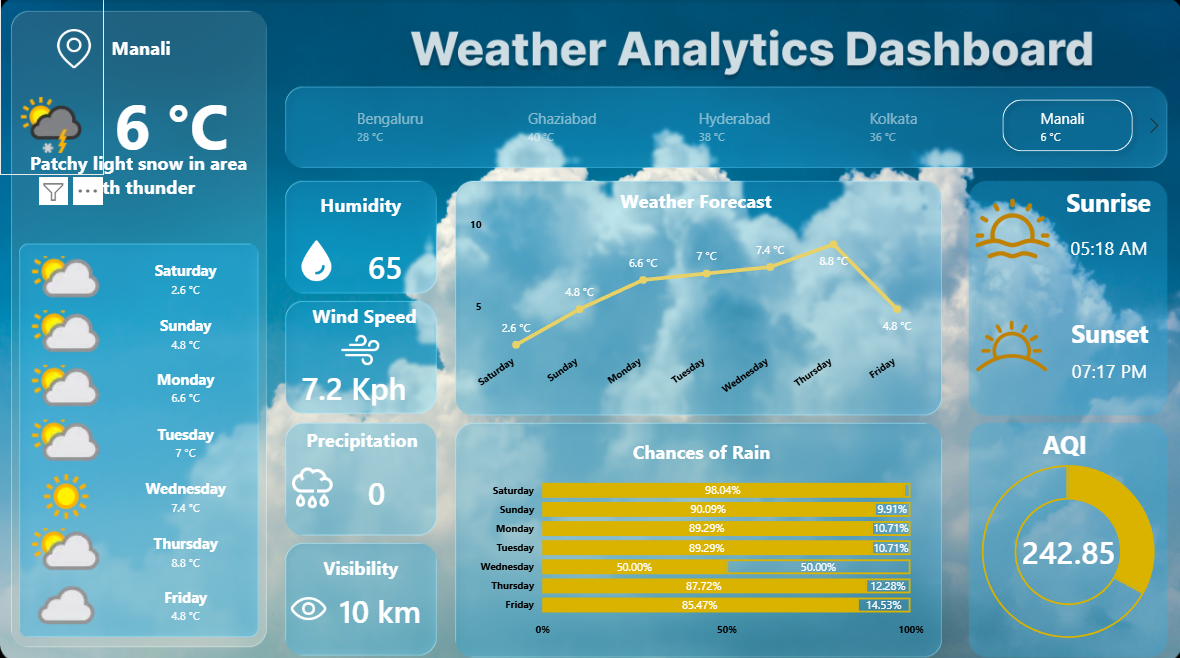

The page's visual inventory and layout, read from the dashboard file:
{"tool":"powerbi","page":{"name":"Page 1","canvas":[1280,720],"ordinal":0},"visuals":[{"type":"advancedSlicerVisual","fields":{"Values":["Locations.location.name"],"Label":["_Measures.Current_Temp_C"]},"box":[308.7,91.9,956.4,90.6],"z":0},{"type":"shape","box":[80.7,91.3,208.5,80.7],"z":1000},{"type":"shape","box":[10.7,150.7,278.5,77.6],"z":2000},{"type":"shape","box":[13.7,13.7,278.5,77.6],"z":3000},{"type":"image","box":[47.2,32,65.4,42.6],"z":4000},{"type":"cardVisual","fields":{"Data":["Min(Current Data.current.condition.icon)"]},"box":[0,0,112.6,190.2],"z":5000},{"type":"image","box":[368.3,353.1,44.1,53.3],"z":6000},{"type":"shape","box":[309,203.9,164.4,36.5],"z":7000},{"type":"shape","box":[312,324.2,164.4,36.5],"z":8000},{"type":"shape","box":[310.5,458.1,164.4,36.5],"z":9000},{"type":"shape","box":[309,596.6,164.4,36.5],"z":10000},{"type":"image","box":[311.5,632.6,45.3,56.3],"z":11000},{"type":"image","box":[312,260.3,59.4,47.2],"z":12000},{"type":"image","box":[309,502.3,59.4,54.8],"z":13000},{"type":"cardVisual","fields":{"Data":["_Measures.Wind_Speed"]},"box":[298.3,380.5,187.2,77.6],"z":14000},{"type":"cardVisual","fields":{"Data":["Sum(Current Data.current.humidity)"]},"box":[369.8,252.7,97.4,71.5],"z":15000},{"type":"cardVisual","fields":{"Data":["Sum(Current Data.current.precip_in)"]},"box":[369.8,494.6,97.4,79.1],"z":16000},{"type":"cardVisual","fields":{"Data":["_Measures.Visibility_View"]},"box":[338.9,621.6,153.7,78.2],"z":17000},{"type":"advancedSlicerVisual","fields":{"Values":["Forcast_Day Data.Day_Name"]},"box":[21.3,272.4,255.7,417],"z":18000},{"type":"lineChart","title":"Weather Forecast","fields":{"Y":["Sum(Forcast_Day Data.forecast.forecastday.day.avgtemp_c)"],"Category":["Forcast_Day Data.Day_Name"]},"box":[503.7,204,500.5,233.8],"z":19000},{"type":"shape","box":[1153.7,339.8,97.3,43.2],"z":20000},{"type":"shape","box":[1153.7,228.6,95.8,80.3],"z":21000},{"type":"shape","box":[1159.8,361.4,83.4,80.3],"z":22000},{"type":"shape","box":[1153.7,199.2,94.2,41.7],"z":23000},{"type":"image","box":[1021.4,324.8,147.5,102],"z":24000},{"type":"image","box":[1043.4,208.7,105.1,80],"z":25000},{"type":"hundredPercentStackedBarChart","title":"Chances of Rain","fields":{"Y":["Sum(Current Data.current.chance_of_rain)","Current Data.Left_value_Rain"],"Category":["Forcast_Day Data.Day_Name"]},"box":[513.8,476.3,490.8,223.7],"z":26000},{"type":"shape","box":[1105.6,460.4,93.8,41.9],"z":27000},{"type":"cardVisual","fields":{"Data":["Sum(Current Data.current.air_quality.co)"]},"box":[1076.8,558.6,186.2,76.5],"z":28000},{"type":"donutChart","fields":{"Y":["Sum(Current Data.current.air_quality.co)","_Measures.AQI"]},"box":[1032,476.3,248.3,243.9],"z":29000}]}

Visuals, with their boxes in screenshot pixels (x1, y1, x2, y2), scaled from the page's 1280x720 canvas onto the 1180x658 screenshot:
advancedSlicerVisual - Locations.location.name x _Measures.Current_Temp_C: (285,84,1166,167)
shape: (74,83,267,157)
shape: (10,138,267,209)
shape: (13,13,269,83)
image: (44,29,104,68)
cardVisual - Min(Current Data.current.condition.icon): (0,0,104,174)
image: (340,323,380,371)
shape: (285,186,436,220)
shape: (288,296,439,330)
shape: (286,419,438,452)
shape: (285,545,436,579)
image: (287,578,329,630)
image: (288,238,342,281)
image: (285,459,340,509)
cardVisual - _Measures.Wind_Speed: (275,348,448,419)
cardVisual - Sum(Current Data.current.humidity): (341,231,431,296)
cardVisual - Sum(Current Data.current.precip_in): (341,452,431,524)
cardVisual - _Measures.Visibility_View: (312,568,454,640)
advancedSlicerVisual - Forcast_Day Data.Day_Name: (20,249,255,630)
"Weather Forecast" lineChart: (464,186,926,400)
shape: (1064,311,1153,350)
shape: (1064,209,1152,282)
shape: (1069,330,1146,404)
shape: (1064,182,1150,220)
image: (942,297,1078,390)
image: (962,191,1059,264)
"Chances of Rain" hundredPercentStackedBarChart: (474,435,926,640)
shape: (1019,421,1106,459)
cardVisual - Sum(Current Data.current.air_quality.co): (993,510,1164,580)
donutChart - Sum(Current Data.current.air_quality.co) x _Measures.AQI: (951,435,1179,657)
